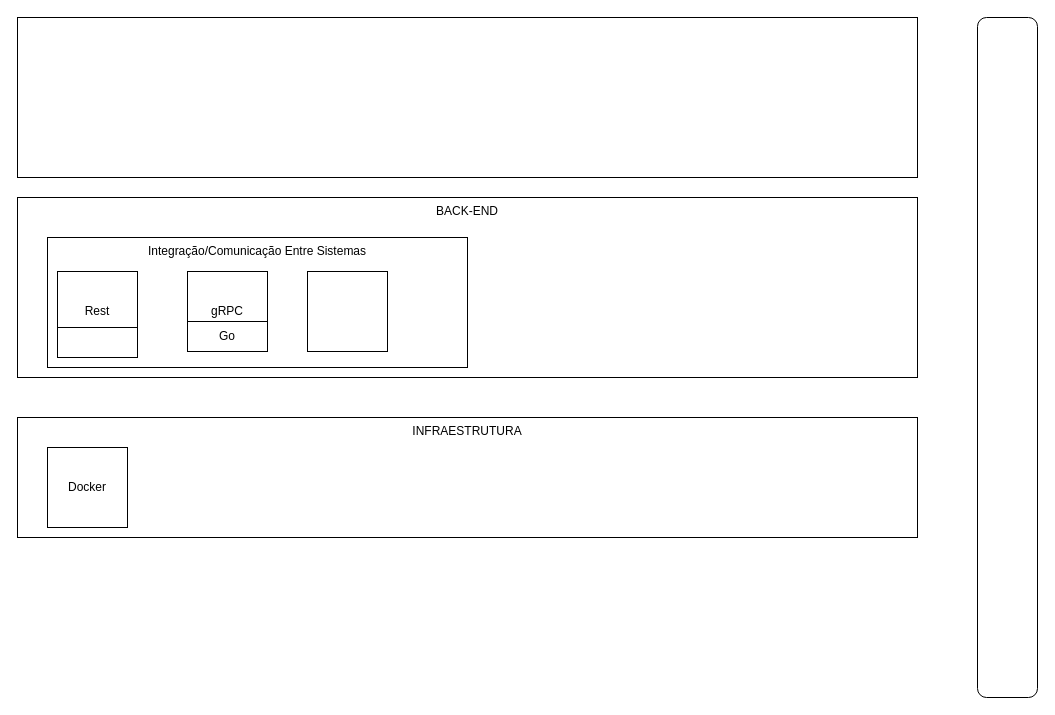
The diagram is 1055 pixels wide and 715 high, and some of its shapes have lost their labels. Here are the shapes that lost their labels. From the top down, the centre of each, then its label:
At pixel 467 97: "FRONT-END".
At pixel 347 311: "GraphQL".
At pixel 97 342: "PHP-Laminas".
At pixel 1007 357: "Arquitetura".
